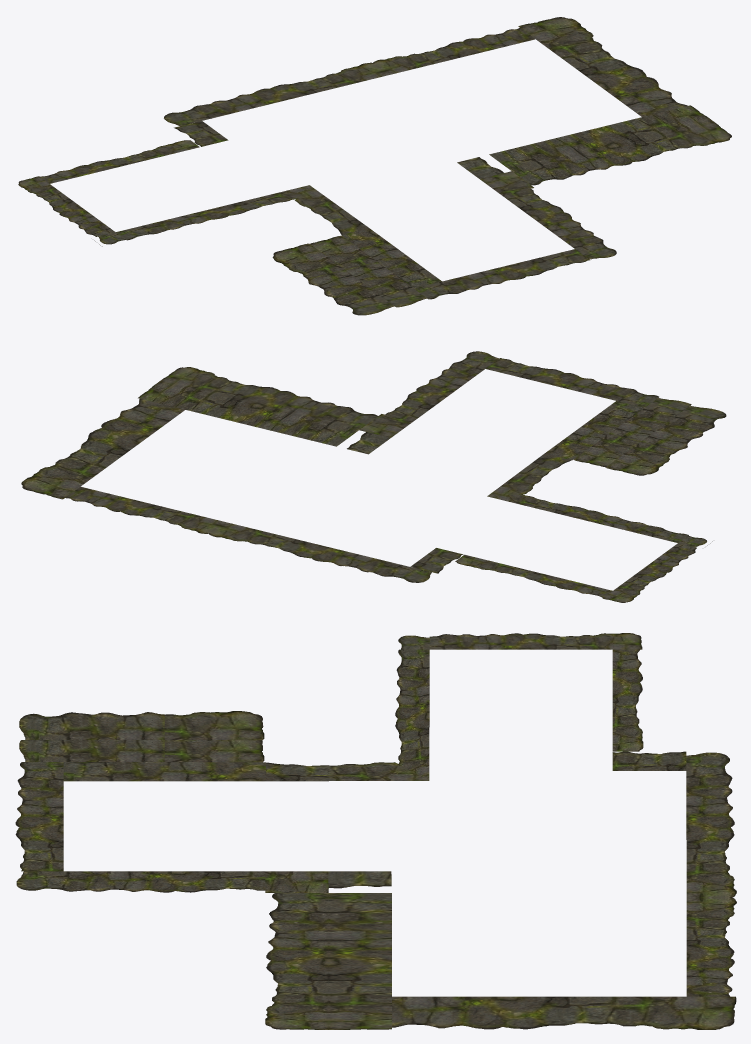
The model's file is Tavern_Level03_L.FBX.
3 views of the same model, one above another, from view 1: azimuth 30°, elevation 25°; view 2: azimuth 150°, elevation 25°; view 3: azimuth 270°, elevation 25° (orthographic). The views are drawn at different scales.
Visible parts, largest first — view 1: Tavern_Level03_L; view 2: Tavern_Level03_L; view 3: Tavern_Level03_L.
Part boxes in pixels (x1=…): Tavern_Level03_L: x1=18, y1=17, x2=731, y2=315; Tavern_Level03_L: x1=21, y1=351, x2=726, y2=602; Tavern_Level03_L: x1=15, y1=633, x2=736, y2=1029.
Bounding box in the file's own units: 454 × 2.13e-14 × 349.
